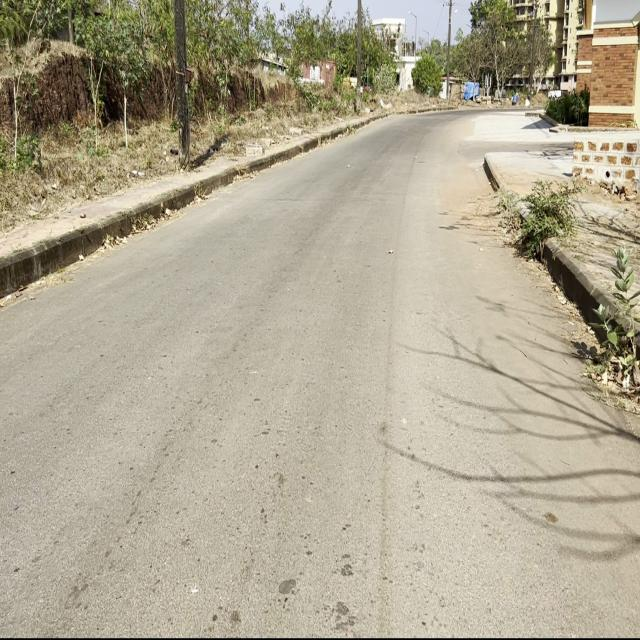Road: (0, 113, 640, 635)
